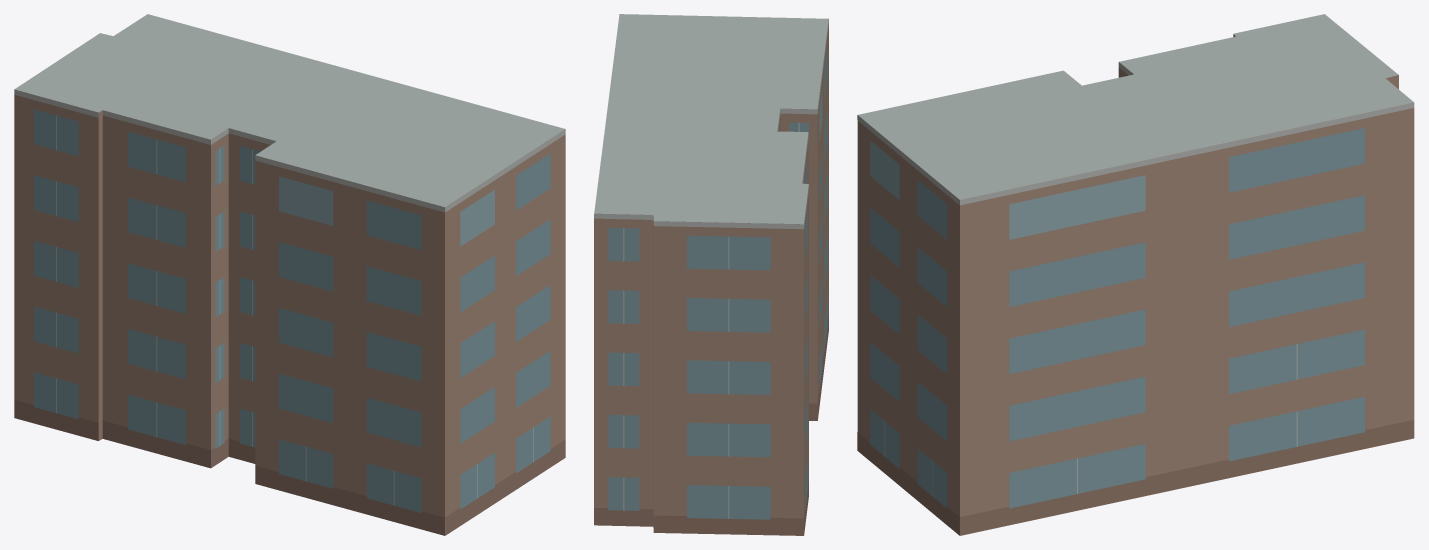
Rendered from survey-upis-32458527.glb.
The picture shows the model from 3 angles, left to right: view 1: azimuth 30°, elevation 25°; view 2: azimuth 150°, elevation 25°; view 3: azimuth 270°, elevation 25°; orthographic projection. The views are drawn at different scales.
Visible parts, largest first — view 1: survey-upis-32458527.tmp; view 2: survey-upis-32458527.tmp; view 3: survey-upis-32458527.tmp.
Part boxes in pixels (bbox=[...]): survey-upis-32458527.tmp: bbox=[14, 14, 565, 535]; survey-upis-32458527.tmp: bbox=[594, 14, 828, 535]; survey-upis-32458527.tmp: bbox=[857, 14, 1414, 535].
Bounding box in the file's own units: 18.12 × 15.25 × 22.92.
